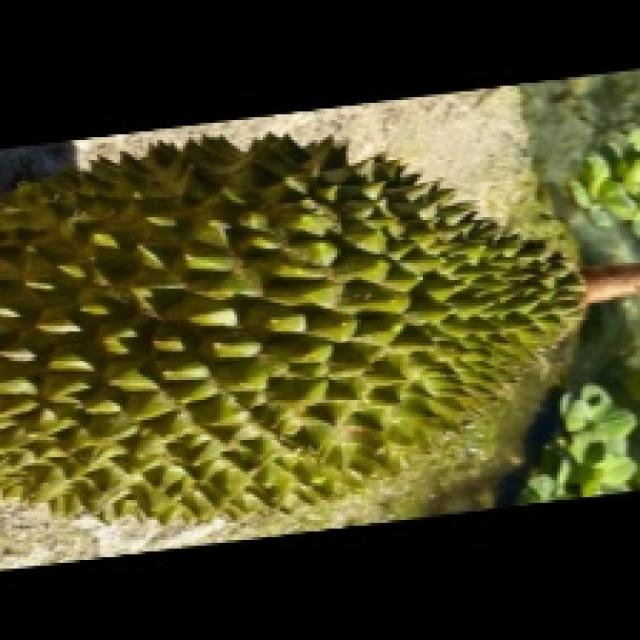d197: (0, 132, 577, 532)
